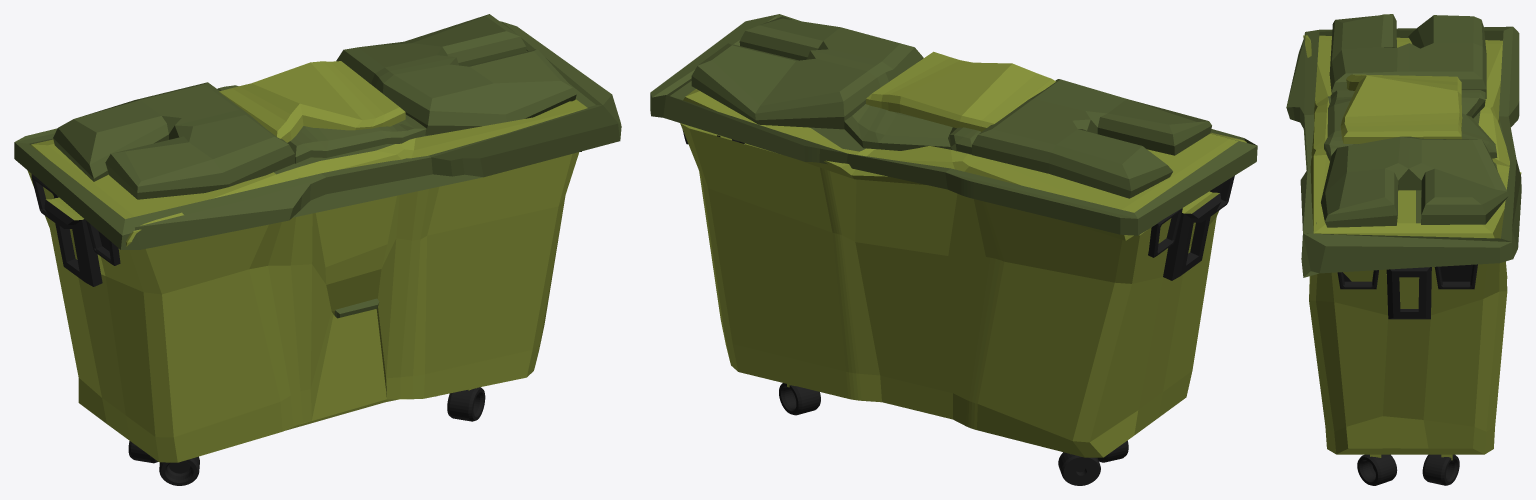
File: yenicopkutusu 1.fbx
3 views of the same model, side by side, from view 1: azimuth 30°, elevation 25°; view 2: azimuth 150°, elevation 25°; view 3: azimuth 270°, elevation 25° (orthographic). The views are drawn at different scales.
Parts seen in each view (by area): view 1: Cube, Cube.001, Cube.004, Cylinder.005, Cube.003; view 2: Cube, Cube.001, Cylinder.005, Cube.004, Cube.003; view 3: Cube, Cube.001, Cylinder.005, Cube.004, Cube.003.
Boxes of the visible parts, box(x1,y1,x2,y2) form: Cube: box(14, 14, 621, 462); Cube.001: box(31, 61, 587, 246); Cube.004: box(44, 199, 102, 286); Cylinder.005: box(128, 387, 485, 485); Cube.003: box(31, 151, 581, 265); Cube: box(650, 14, 1257, 457); Cube.001: box(683, 51, 1246, 240); Cylinder.005: box(779, 383, 1128, 485); Cube.004: box(717, 135, 1221, 280); Cube.003: box(682, 130, 1234, 257); Cube: box(1286, 14, 1521, 460); Cube.001: box(1303, 35, 1521, 238); Cylinder.005: box(1357, 454, 1459, 485); Cube.004: box(1386, 267, 1431, 319); Cube.003: box(1337, 264, 1477, 289).
Bounding box in the file's own units: 260 × 174 × 112.
